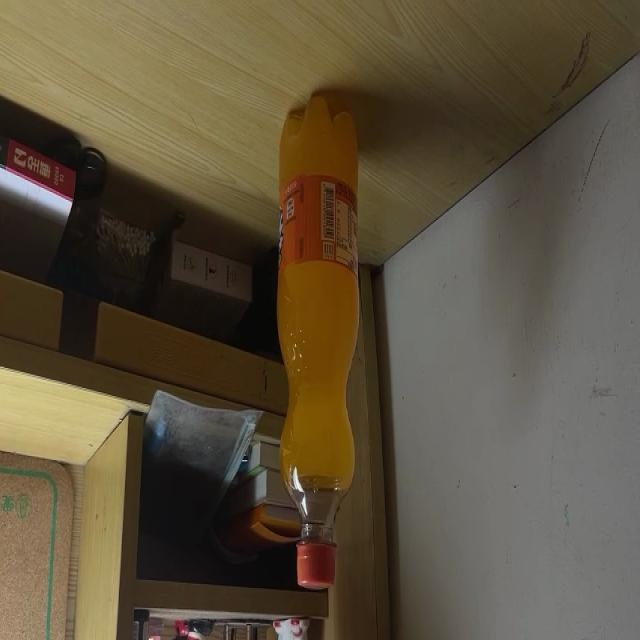Fanta: (276, 93, 358, 591)
